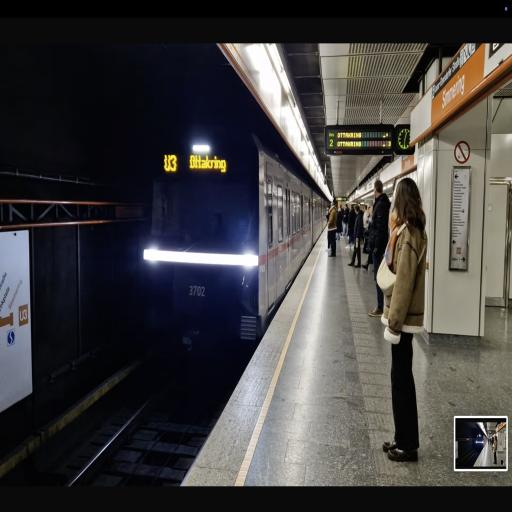X-Wagen: (145, 128, 329, 325)
